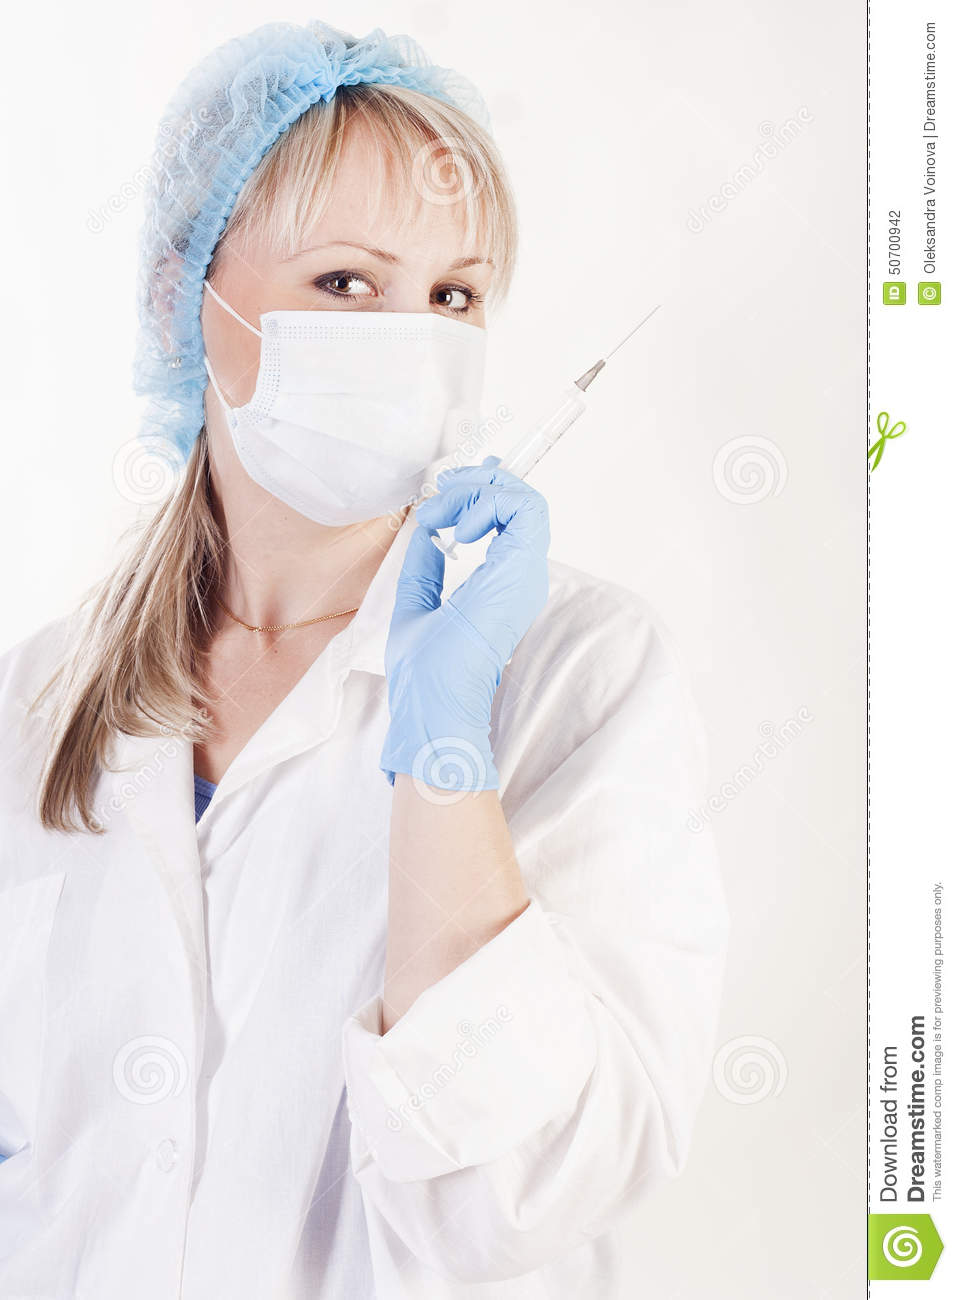mask: (232, 319, 498, 503)
